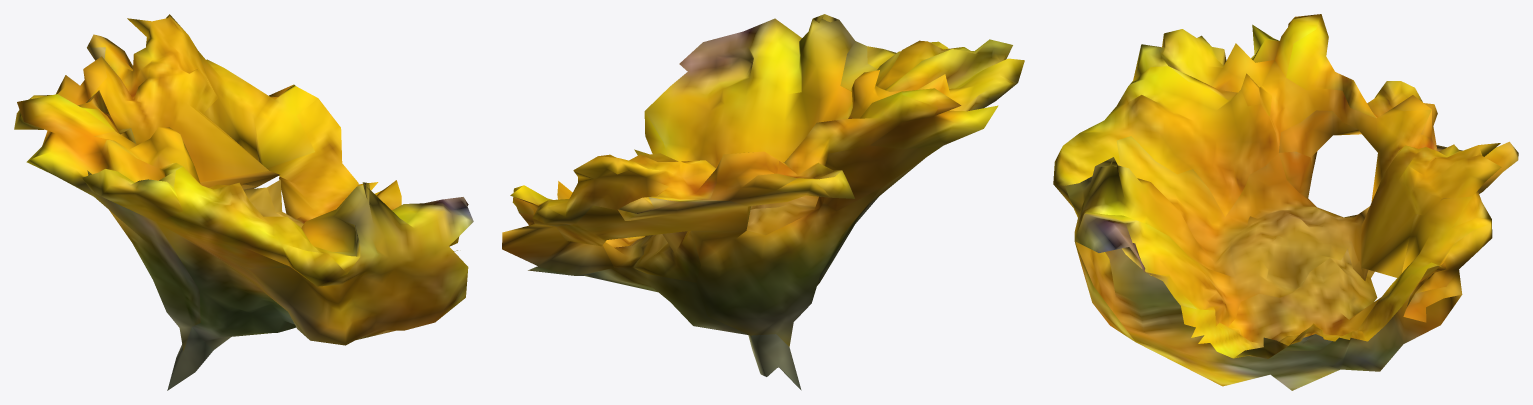
File: gerbera.glb
The picture shows the model from 3 angles, left to right: view 1: azimuth 30°, elevation 25°; view 2: azimuth 150°, elevation 25°; view 3: azimuth 270°, elevation 25°; orthographic projection. The views are drawn at different scales.
Size of the model in its own units: 0.3319 by 0.2399 by 0.3571.
1 material, 1 textured.
